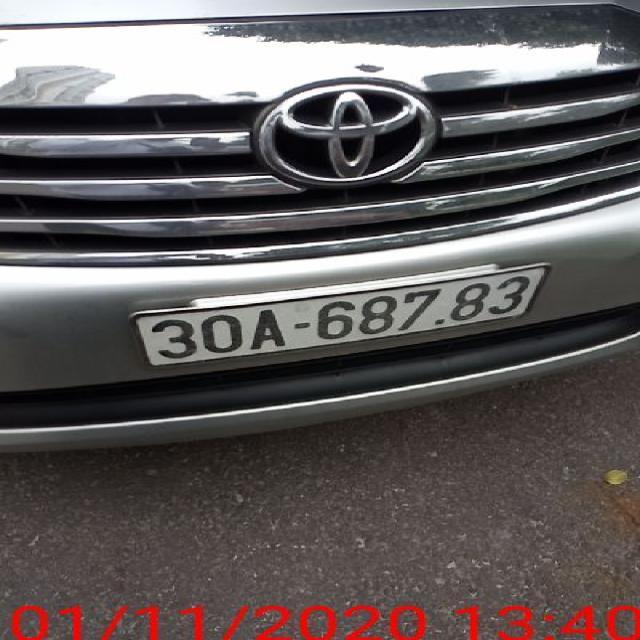bien_so_oto: (128, 263, 548, 368)
